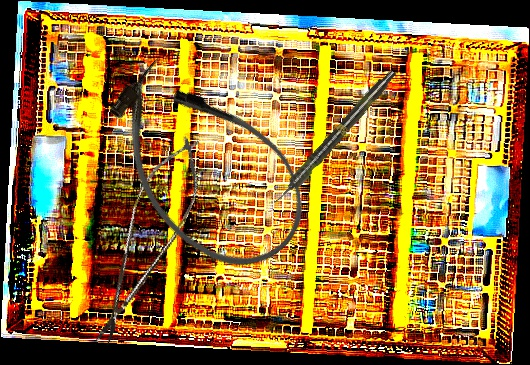Cannula: (79, 37, 332, 296)
Handpiece: (269, 66, 400, 209)
Micro Scissor: (77, 123, 219, 359)
